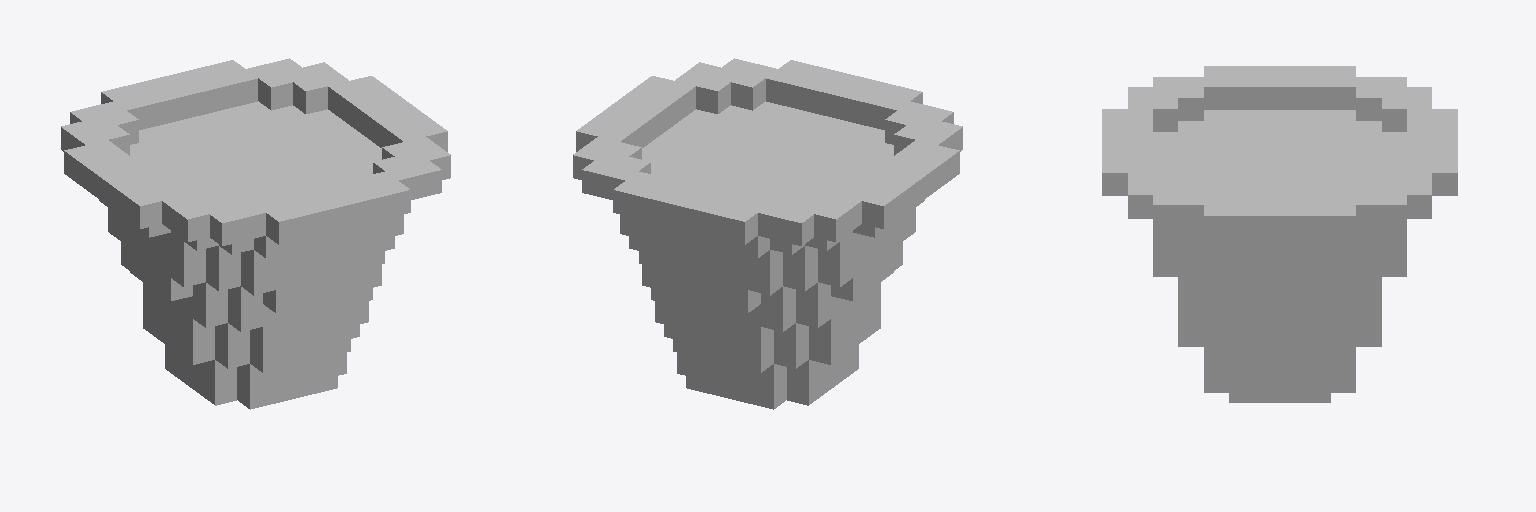
The model's file is vasoconico.obj.
3 renders of one model, left to right at view 1: azimuth 30°, elevation 25°; view 2: azimuth 150°, elevation 25°; view 3: azimuth 270°, elevation 25°, orthographic.
Parts seen in each view (by area): view 1: vasoconico; view 2: vasoconico; view 3: vasoconico.
Part boxes in pixels (x1,y1,x2,y2): vasoconico: (61,58,450,409); vasoconico: (573,58,962,409); vasoconico: (1102,66,1457,402).
Bounding box in the file's own units: 14 × 10 × 14.